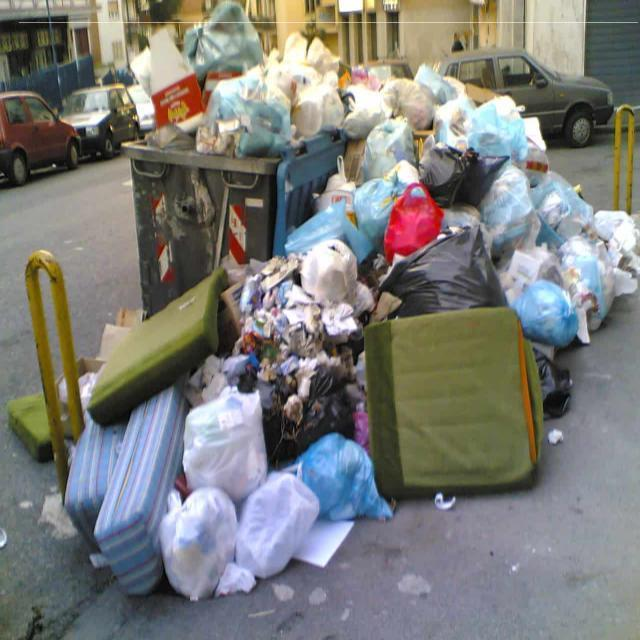Trashbag: (372, 229, 510, 313), (412, 140, 472, 208)
